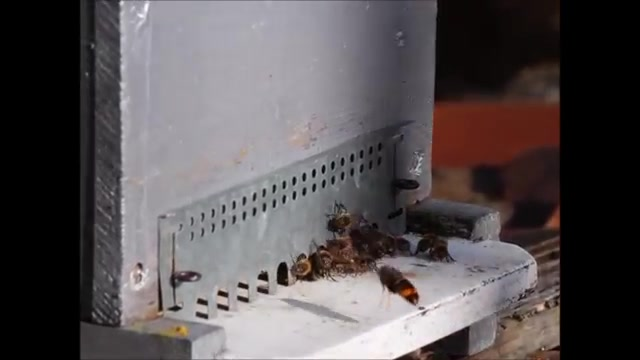bee: (354, 224, 410, 257), (319, 238, 358, 274), (326, 207, 355, 237), (415, 237, 451, 260), (293, 256, 314, 278)
hornet: (373, 263, 424, 308)
